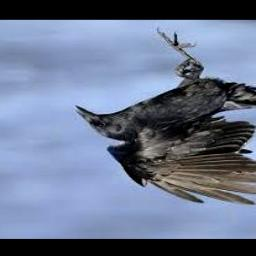Crow: (73, 25, 256, 205)
